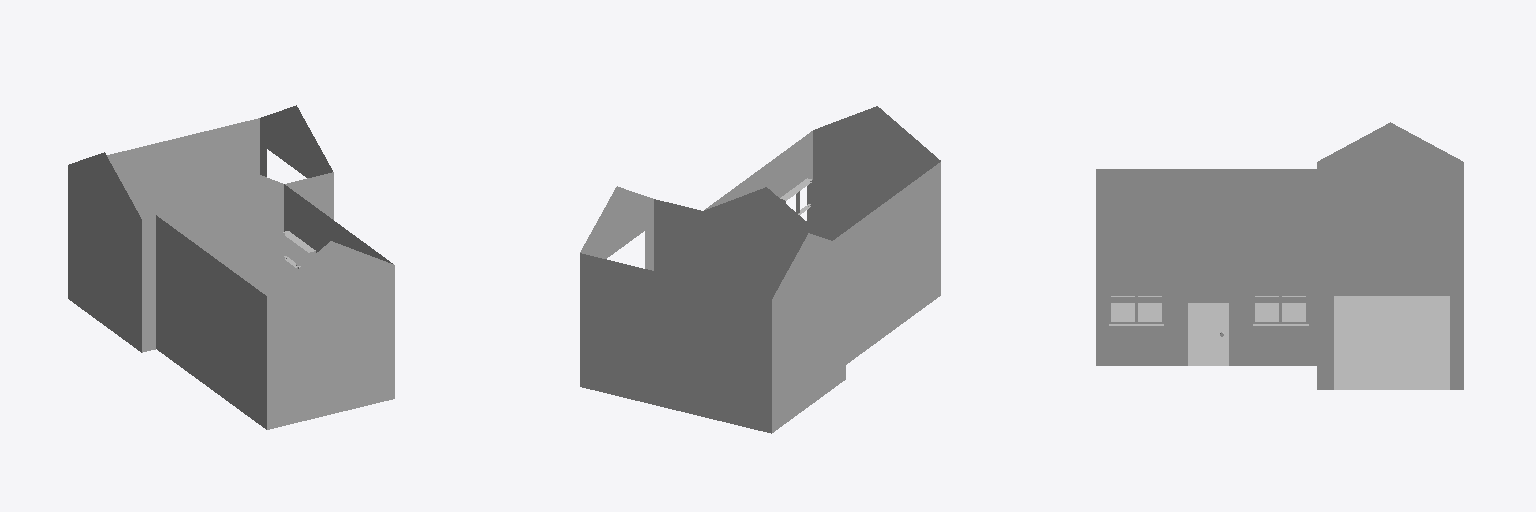
File: gwall.obj
3 views of the same model, side by side, from view 1: azimuth 30°, elevation 25°; view 2: azimuth 150°, elevation 25°; view 3: azimuth 270°, elevation 25° (orthographic).
Parts seen in each view (by area): view 1: HouseWindows.003; view 2: HouseWindows.003; view 3: HouseWindows.003.
Part boxes in pixels (left/top/right/bottom): HouseWindows.003: left=68, top=105, right=394, bottom=429; HouseWindows.003: left=580, top=106, right=940, bottom=433; HouseWindows.003: left=1096, top=122, right=1463, bottom=389.
Bounding box in the file's own units: 14.8 × 12.79 × 24.62.